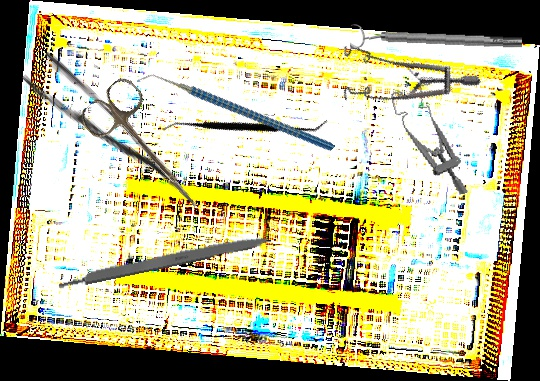Chopper: (136, 19, 336, 208)
Dressing Forceps: (20, 48, 185, 213)
Fixation Ring: (349, 21, 523, 58)
Iris Scissors: (76, 73, 222, 226)
Scalpel Handle: (56, 230, 273, 291)
Spatula Surgical: (161, 52, 329, 199)
Speculum: (325, 1, 482, 138), (389, 79, 470, 206)
